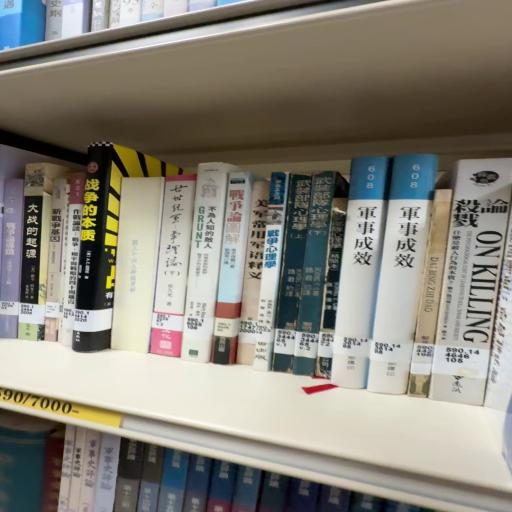backward: (111, 179, 164, 358)
book: (431, 161, 512, 411), (367, 154, 436, 396), (332, 161, 392, 395)
